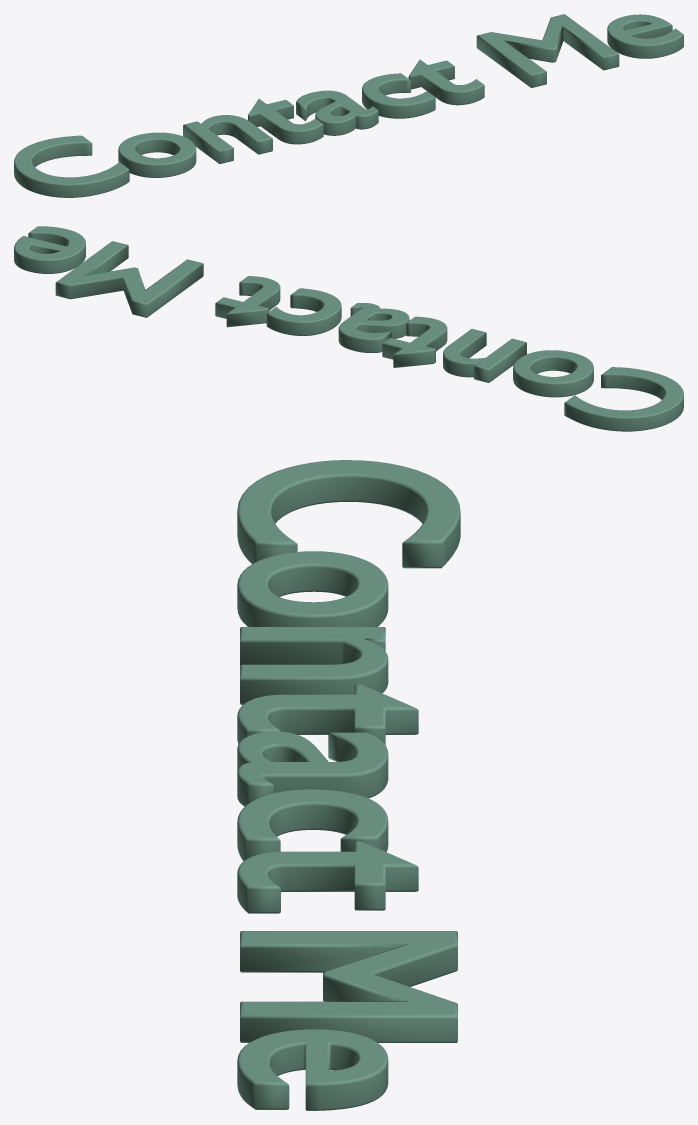
Rendered from contact_me.gltf.
3 views of the same model, one above another, from view 1: azimuth 30°, elevation 25°; view 2: azimuth 150°, elevation 25°; view 3: azimuth 270°, elevation 25° (orthographic). The views are drawn at different scales.
Visible parts, largest first — view 1: Text; view 2: Text; view 3: Text.
Part boxes in pixels (x1,y1,x2,y2): Text: [14, 14, 683, 197]; Text: [14, 226, 683, 431]; Text: [237, 460, 460, 1110].
Bounding box in the file's own units: 4.77 × 0.1 × 0.72.
